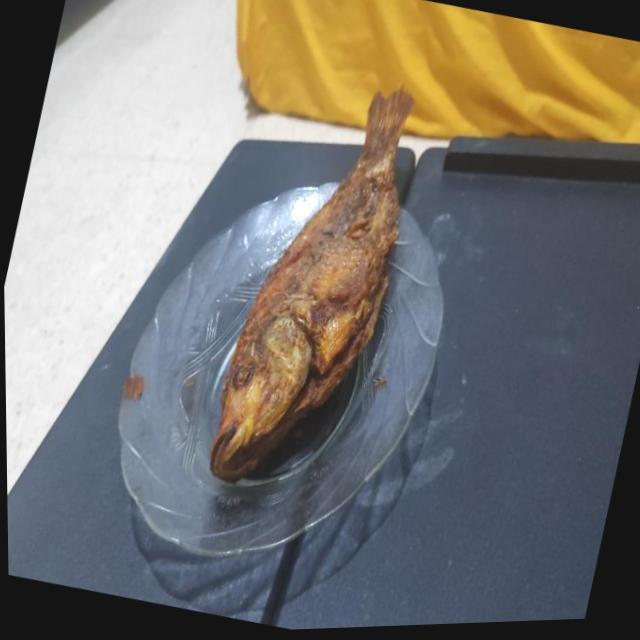ikan_mujair: (210, 87, 412, 480)
